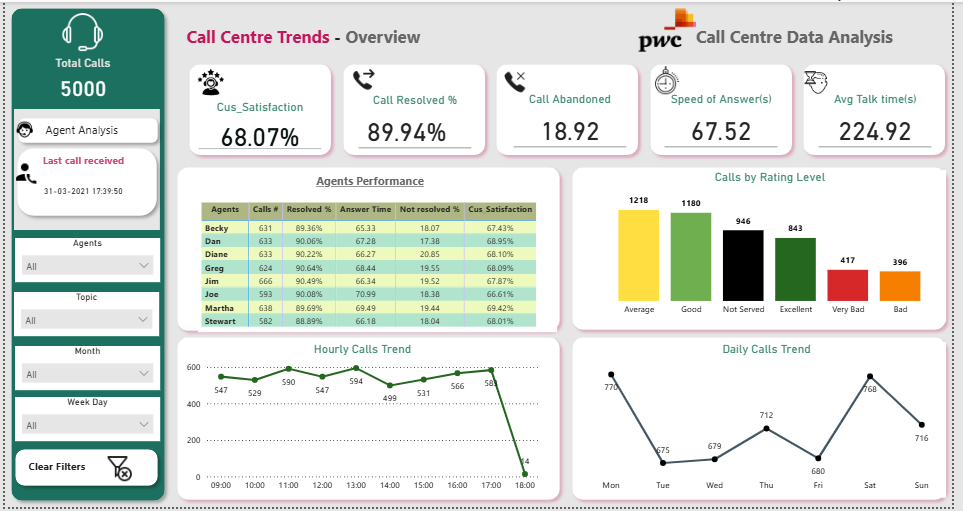

The page's visual inventory and layout, read from the dashboard file:
{"tool":"powerbi","page":{"name":"Dashboard","canvas":[1350,720],"ordinal":1},"visuals":[{"type":"group","id":"g1","title":"BG","box":[0,0,1350.2,720],"z":0},{"type":"shape","box":[253.8,79.8,220,147.2],"z":0,"group":"g2"},{"type":"shape","box":[799.8,226.7,550.3,249.5],"z":0,"group":"g1"},{"type":"shape","box":[0,0,236.7,720],"z":1000,"group":"g1"},{"type":"image","box":[71.3,7.1,78.4,72.7],"z":1000},{"type":"shape","box":[472.8,79.8,220,147.2],"z":1000,"group":"g2"},{"type":"cardVisual","title":"Total Calls","fields":{"Data":["Measure.total_calls"]},"box":[18.5,77,185.3,65.6],"z":2000},{"type":"shape","box":[691.8,79.8,220,147.2],"z":2000,"group":"g2"},{"type":"shape","box":[236.7,226.7,563.2,250.9],"z":2000,"group":"g1"},{"type":"textbox","box":[253.8,27.1,357.9,52.8],"z":3000,"group":"g1"},{"type":"shape","box":[910.8,79.8,220,147.2],"z":3000,"group":"g2"},{"type":"cardVisual","title":"Call Resolved % ","fields":{"Data":["Measure.call_resolved %"]},"box":[499,129.7,171.1,84.1],"z":3000},{"type":"image","box":[897.8,0,91.6,79.9],"z":4000,"group":"g1"},{"type":"shape","box":[1129.8,79.8,220,147.2],"z":4000,"group":"g2"},{"type":"cardVisual","title":"Call Abandoned","fields":{"Data":["Measure.call_not_resolved %"]},"box":[720,128.3,171.1,84.1],"z":4000},{"type":"textbox","box":[967.8,26.9,302.5,53],"z":5000,"group":"g1"},{"type":"textbox","box":[275.2,239.5,490.5,41.3],"z":5000},{"type":"group","id":"g2","title":"Group 1","box":[253.8,79.8,1096.4,146.9],"z":6000,"group":"g1"},{"type":"cardVisual","title":"Speed of Answer(s)","fields":{"Data":["Measure.Speed_of_answer"]},"box":[935.3,128.3,171.1,84.1],"z":6000},{"type":"cardVisual","title":"Avg Talk time(s)","fields":{"Data":["Measure.Avr_talk_time"]},"box":[1154.9,128.3,171.1,84.1],"z":7000},{"type":"clusteredColumnChart","title":"Calls by Rating Level","fields":{"Category":["Calls.Rating Label"],"Y":["Measure.total_calls"]},"box":[839.8,239.5,501.9,216.7],"z":7000,"group":"g1"},{"type":"cardVisual","title":"Cus_Satisfaction","fields":{"Data":["Measure.Cus_Satisfaction"]},"box":[270.9,139.7,185.3,75.6],"z":8000},{"type":"shape","box":[236.7,469.1,563.2,249.5],"z":8000,"group":"g1"},{"type":"pivotTable","fields":{"Rows":["Calls.agent"],"Values":["Measure.total_calls","Measure.call_resolved %","Measure.Speed_of_answer","Measure.call_not_resolved %","Measure.Cus_Satisfaction"]},"box":[275.2,280.9,511.8,189.6],"z":9000},{"type":"shape","box":[799.8,469.1,550.3,249.5],"z":9000,"group":"g1"},{"type":"shape","box":[12.8,152.6,208.2,172.5],"z":10000,"group":"g1"},{"type":"areaChart","title":"Hourly Calls Trend","fields":{"Category":["Calls.Hours"],"Y":["Measure.total_calls"]},"box":[253.8,484.8,511.8,222.4],"z":10000},{"type":"shape","box":[8.6,199.6,216.7,114.1],"z":11000,"group":"g1"},{"type":"areaChart","title":"Daily Calls Trend","fields":{"Y":["Measure.total_calls"],"Category":["Calls.Day names"]},"box":[829.8,484.8,511.8,222.4],"z":11000},{"type":"shape","box":[10,156.8,216.7,52.8],"z":12000,"group":"g1"},{"type":"cardVisual","fields":{"Data":["Measure.last_call-rec"]},"box":[38.5,239.5,155.4,51.3],"z":12000},{"type":"slicer","title":"Agents","fields":{"Values":["Calls.agent"]},"box":[14.3,336.5,206.7,62.7],"z":13000},{"type":"shape","box":[5.7,628.8,221,69.9],"z":13000,"group":"g1"},{"type":"slicer","title":"Topic","fields":{"Values":["Calls.topic"]},"box":[12.8,413.5,206.7,62.7],"z":14000},{"type":"image","box":[126.9,637.3,67,51.3],"z":14000,"group":"g1"},{"type":"slicer","title":"Month","fields":{"Values":["Calls.Month"]},"box":[14.3,490.5,206.7,62.7],"z":15000},{"type":"textbox","box":[28.5,645.9,105.5,35.6],"z":15000,"group":"g1"},{"type":"textbox","box":[21.4,209.6,154,32.8],"z":16000,"group":"g1"},{"type":"slicer","title":"Week Day","fields":{"Values":["Calls.Day names"]},"box":[14.3,563.2,206.7,62.7],"z":16000},{"type":"image","box":[5.4,220.8,45.8,43.1],"z":17000,"group":"g1"},{"type":"textbox","box":[9.8,167,156.2,32.4],"z":18000,"group":"g1"},{"type":"image","title":"Agent","box":[8.8,166,39.3,33.4],"z":19000,"group":"g1"},{"type":"image","box":[262.3,87,62.7,54.2],"z":20000,"group":"g1"},{"type":"image","box":[480.5,87,59.9,48.5],"z":21000,"group":"g1"},{"type":"image","box":[704.3,92.7,45.6,42.8],"z":22000,"group":"g1"},{"type":"image","box":[918.2,85.5,49.9,51.3],"z":23000,"group":"g1"},{"type":"image","box":[1134.9,92.7,42.8,45.6],"z":24000,"group":"g1"}]}

Visuals, with their boxes in screenshot pixels (x1, y1, x2, y2), scaled from the page's 1350x720 canvas onto the 963x511 screenshot:
"BG" group: bbox=[0, 0, 962, 510]
shape: bbox=[181, 57, 338, 161]
shape: bbox=[571, 161, 962, 338]
shape: bbox=[0, 0, 169, 510]
image: bbox=[51, 5, 107, 57]
shape: bbox=[337, 57, 494, 161]
"Total Calls" cardVisual: bbox=[13, 55, 145, 101]
shape: bbox=[493, 57, 650, 161]
shape: bbox=[169, 161, 571, 339]
textbox: bbox=[181, 19, 436, 57]
shape: bbox=[650, 57, 807, 161]
"Call Resolved % " cardVisual: bbox=[356, 92, 478, 152]
image: bbox=[640, 0, 706, 57]
shape: bbox=[806, 57, 962, 161]
"Call Abandoned" cardVisual: bbox=[514, 91, 636, 151]
textbox: bbox=[690, 19, 906, 57]
textbox: bbox=[196, 170, 546, 199]
"Group 1" group: bbox=[181, 57, 962, 161]
"Speed of Answer(s)" cardVisual: bbox=[667, 91, 789, 151]
"Avg Talk time(s)" cardVisual: bbox=[824, 91, 946, 151]
"Calls by Rating Level" clusteredColumnChart: bbox=[599, 170, 957, 324]
"Cus_Satisfaction" cardVisual: bbox=[193, 99, 325, 153]
shape: bbox=[169, 333, 571, 510]
pivotTable - Calls.agent x Measure.total_calls: bbox=[196, 199, 561, 334]
shape: bbox=[571, 333, 962, 510]
shape: bbox=[9, 108, 158, 231]
"Hourly Calls Trend" areaChart: bbox=[181, 344, 546, 502]
shape: bbox=[6, 142, 161, 223]
"Daily Calls Trend" areaChart: bbox=[592, 344, 957, 502]
shape: bbox=[7, 111, 162, 149]
cardVisual - Measure.last_call-rec: bbox=[27, 170, 138, 206]
"Agents" slicer: bbox=[10, 239, 158, 283]
shape: bbox=[4, 446, 162, 496]
"Topic" slicer: bbox=[9, 293, 157, 338]
image: bbox=[91, 452, 138, 489]
"Month" slicer: bbox=[10, 348, 158, 393]
textbox: bbox=[20, 458, 96, 484]
textbox: bbox=[15, 149, 125, 172]
"Week Day" slicer: bbox=[10, 400, 158, 444]
image: bbox=[4, 157, 37, 187]
textbox: bbox=[7, 119, 118, 142]
"Agent" image: bbox=[6, 118, 34, 142]
image: bbox=[187, 62, 232, 100]
image: bbox=[343, 62, 385, 96]
image: bbox=[502, 66, 535, 96]
image: bbox=[655, 61, 691, 97]
image: bbox=[810, 66, 840, 98]
